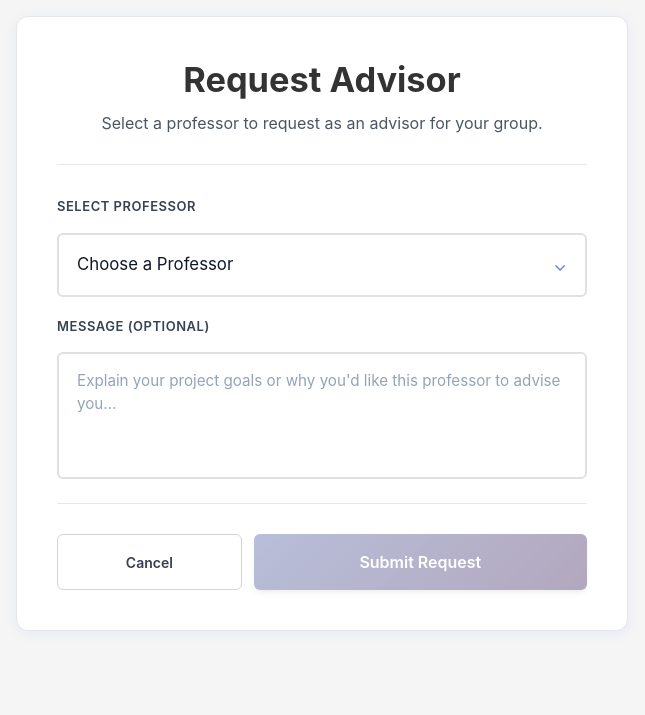
Test: AdviseeRequestForm › displays a 422 error message when the advisor request submission is rejected by schedule boundary and disables the form
The width and height of the screenshot is (645, 715).
Click the button named "Select Professor" at (155, 264), box [57,233,587,297]
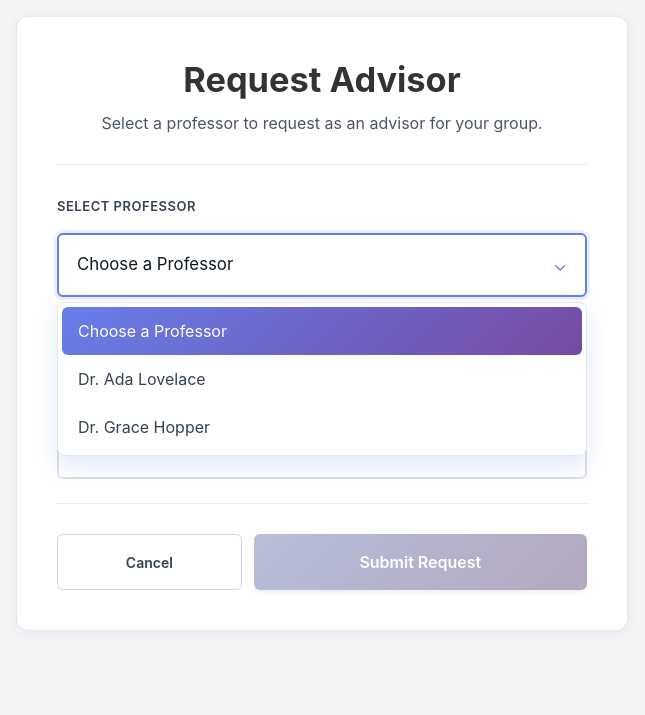
Click the option "Dr. Ada Lovelace" at (142, 379), box [62,355,582,403]
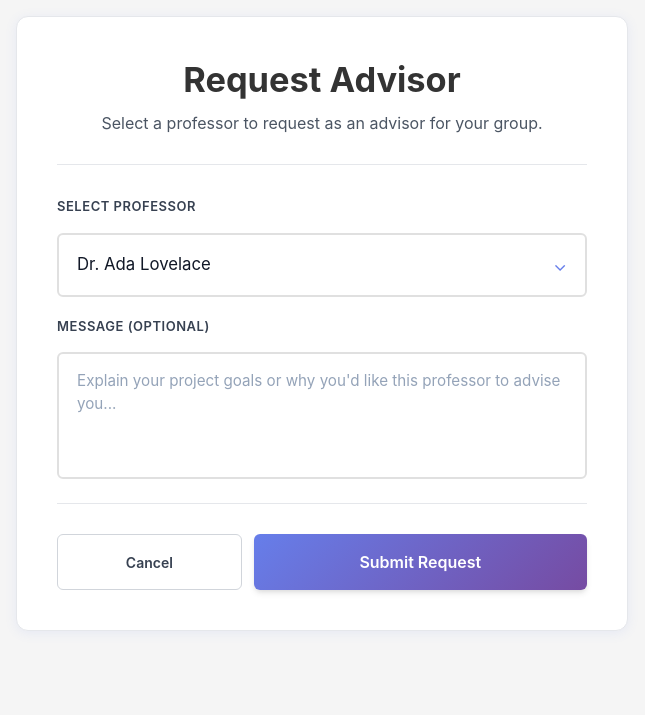
Click the button "Submit Request" at (420, 562), box [254,534,587,590]
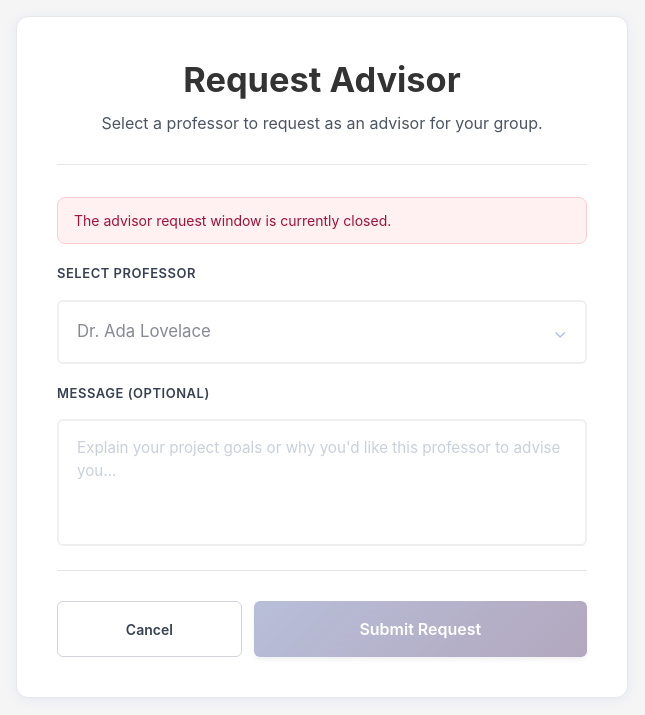
Result: the text "The advisor request window is currently closed." is shown at [74,212,391,229]
Result: the button "Submit Request" is disabled at [254,601,587,657]
Result: the button named "Select Professor" is disabled at [57,300,587,364]
